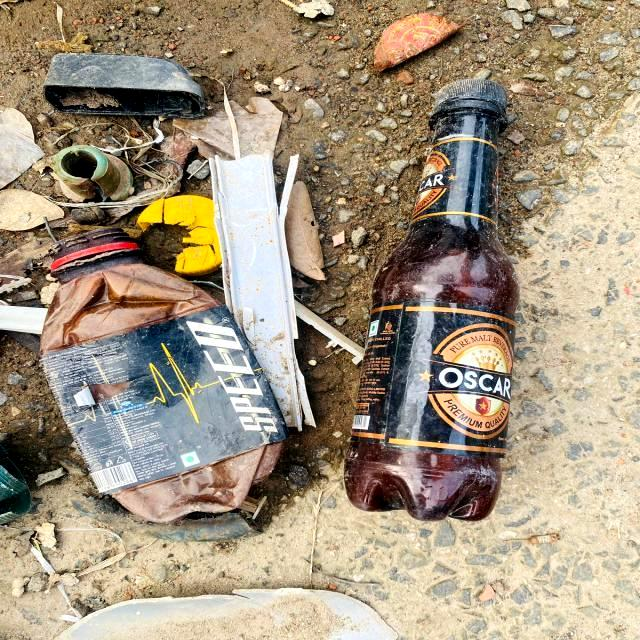bottle: (325, 52, 551, 537), (0, 172, 293, 545)
